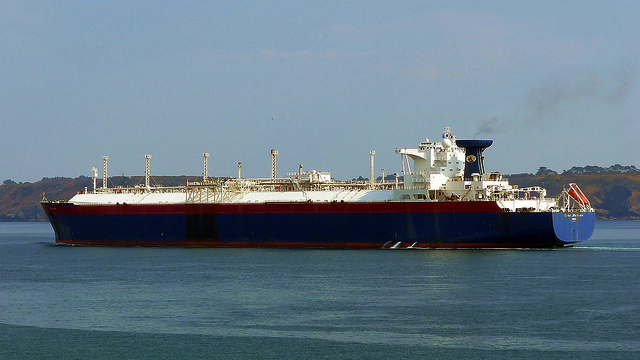LNG_ship: (26, 134, 604, 251)
